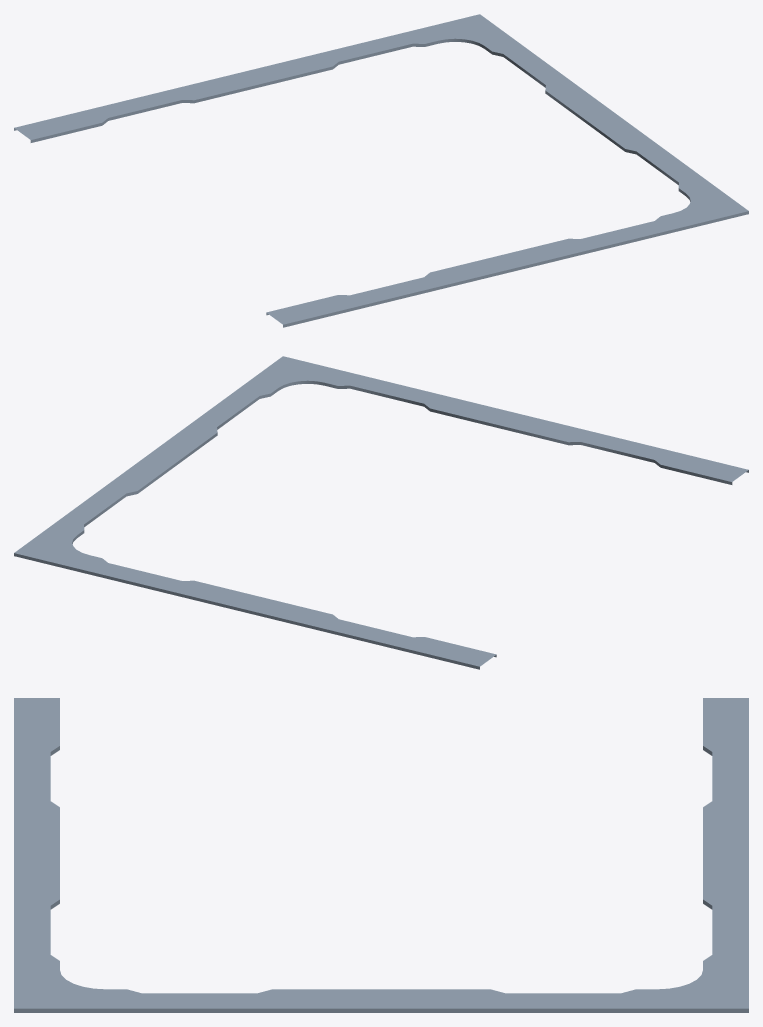
File: RoadSideDeadend.fbx
The picture shows the model from 3 angles, top to bottom: view 1: azimuth 30°, elevation 25°; view 2: azimuth 150°, elevation 25°; view 3: azimuth 270°, elevation 25°; orthographic projection. The views are drawn at different scales.
Parts seen in each view (by area): view 1: RoadSideDead_LOD0; view 2: RoadSideDead_LOD0; view 3: RoadSideDead_LOD0.
Boxes of the visible parts, x1,y1,x2,y2 form: RoadSideDead_LOD0: (14,14,748,327); RoadSideDead_LOD0: (14,356,748,669); RoadSideDead_LOD0: (14,698,748,1012).
Size of what is drawn, in the model's own units: 1600 by 10 by 1600.
